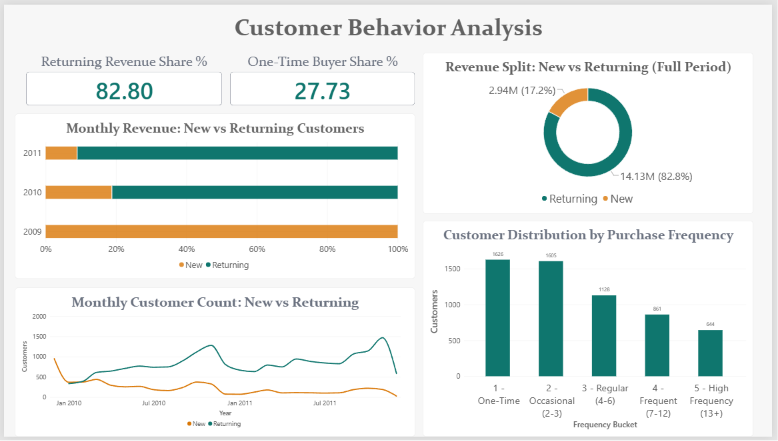

Layout of this report page (visuals, bound fields, positions):
{"tool":"powerbi","page":{"name":"Customer Behavior","canvas":[1920,1080],"ordinal":1},"visuals":[{"type":"hundredPercentStackedBarChart","title":"Monthly Revenue: New vs Returning Customers","fields":{"Category":["new_vs_returning.period.Variation.Date Hierarchy.Year","new_vs_returning.period.Variation.Date Hierarchy.Quarter","new_vs_returning.period.Variation.Date Hierarchy.Month","new_vs_returning.period.Variation.Date Hierarchy.Day"],"Series":["new_vs_returning.customer_type"],"Y":["Sum(new_vs_returning.revenue)"]},"box":[27.5,272.5,1000,412.5],"z":0},{"type":"textbox","box":[475,20,972.5,100],"z":1000},{"type":"donutChart","title":"Revenue Split: New vs Returning (Full Period)","fields":{"Category":["new_vs_returning.customer_type"],"Y":["Sum(new_vs_returning.revenue)"]},"box":[1047.5,120,825,402.5],"z":2000},{"type":"columnChart","title":"Customer Distribution by Purchase Frequency","fields":{"Category":["frequency_bucket.frequency_bucket"],"Y":["Sum(frequency_bucket.customers)"]},"box":[1047.5,540,825,540],"z":3000},{"type":"lineChart","title":"Monthly Customer Count: New vs Returning","fields":{"Category":["new_vs_returning.period.Variation.Date Hierarchy.Year","new_vs_returning.period.Variation.Date Hierarchy.Quarter","new_vs_returning.period.Variation.Date Hierarchy.Month","new_vs_returning.period.Variation.Date Hierarchy.Day"],"Series":["new_vs_returning.customer_type"],"Y":["Sum(new_vs_returning.customers)"]},"box":[27.5,707.5,1000,372.5],"z":4000},{"type":"cardVisual","title":"Returning Revenue Share %","fields":{"Data":["new_vs_returning.Returning Revenue Share %"]},"box":[55,120,490,132.5],"z":5000},{"type":"cardVisual","title":"One-Time Buyer Share %","fields":{"Data":["frequency_bucket.One Time Share %"]},"box":[565,120,462.5,132.5],"z":6000}]}

Visuals, with their boxes in screenshot pixels (x1, y1, x2, y2), scaled from the page's 1920x1080 canvas onto the 778x441 screenshot:
"Monthly Revenue: New vs Returning Customers" hundredPercentStackedBarChart: l=11, t=111, r=416, b=280
textbox: l=192, t=8, r=587, b=49
"Revenue Split: New vs Returning (Full Period)" donutChart: l=424, t=49, r=759, b=213
"Customer Distribution by Purchase Frequency" columnChart: l=424, t=220, r=759, b=440
"Monthly Customer Count: New vs Returning" lineChart: l=11, t=289, r=416, b=440
"Returning Revenue Share %" cardVisual: l=22, t=49, r=221, b=103
"One-Time Buyer Share %" cardVisual: l=229, t=49, r=416, b=103
